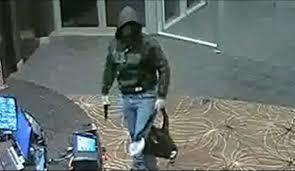weapon: (100, 100, 115, 123)
